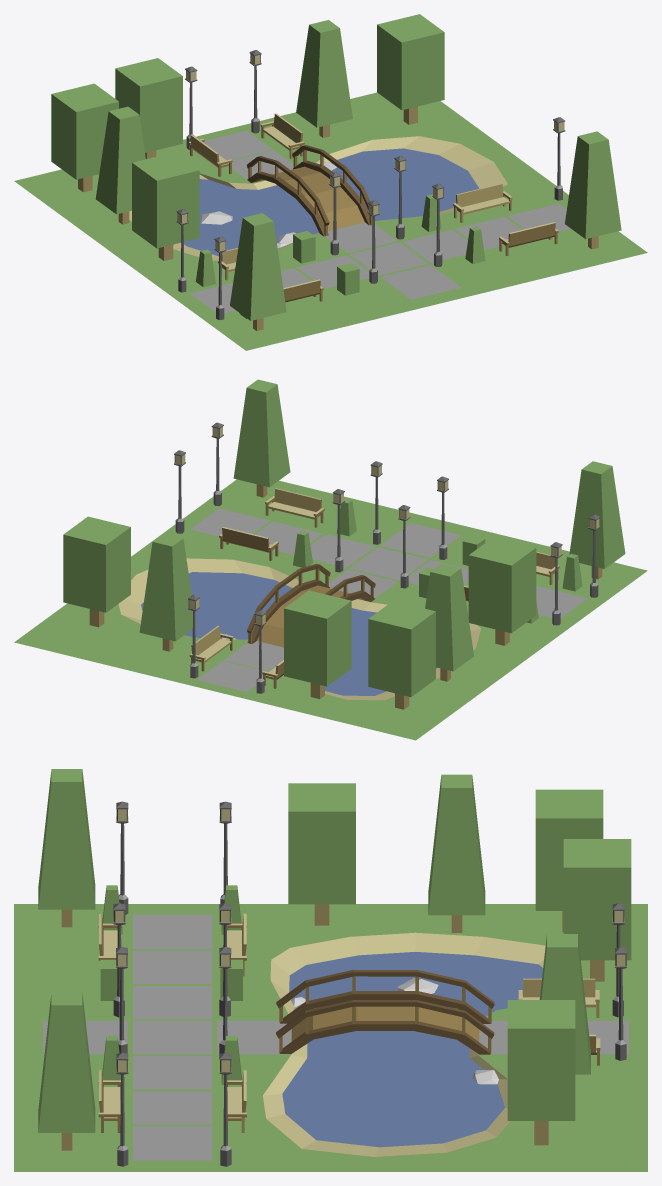
The model's file is park_010.fbx.
3 views of the same model, one above another, from view 1: azimuth 30°, elevation 25°; view 2: azimuth 150°, elevation 25°; view 3: azimuth 270°, elevation 25° (orthographic). The views are drawn at different scales.
Parts seen in each view (by area): view 1: park_010; view 2: park_010; view 3: park_010.
Boxes of the visible parts, bbox=[...] form: park_010: bbox=[14, 14, 647, 350]; park_010: bbox=[14, 379, 647, 740]; park_010: bbox=[14, 769, 647, 1171].
Size of the model in its own units: 1600 by 551 by 1600.
